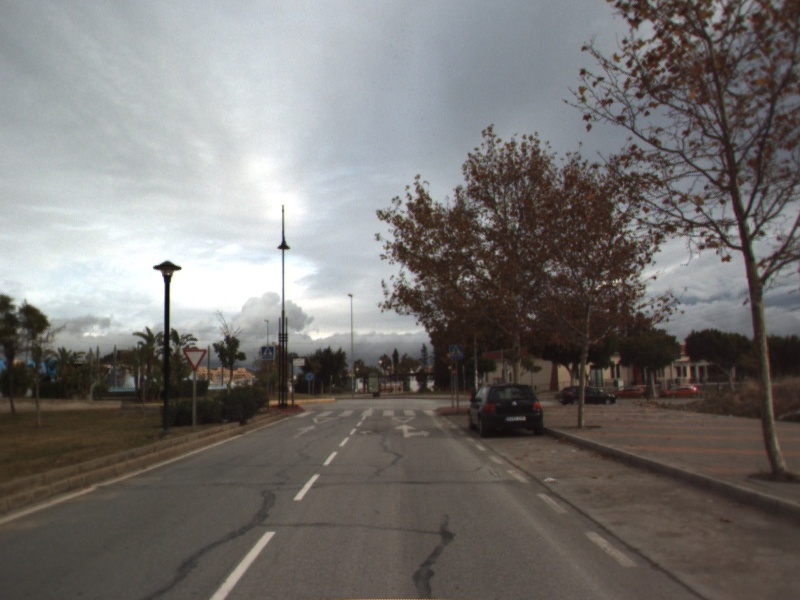STRAIGHT: (290, 423, 322, 441)
STRAIGHT_RIGHT: (393, 422, 433, 439)
